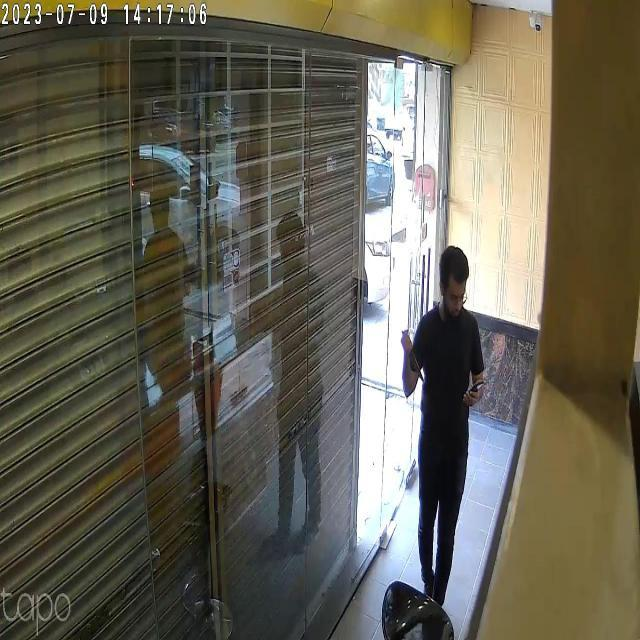Knife: (398, 331, 432, 394)
